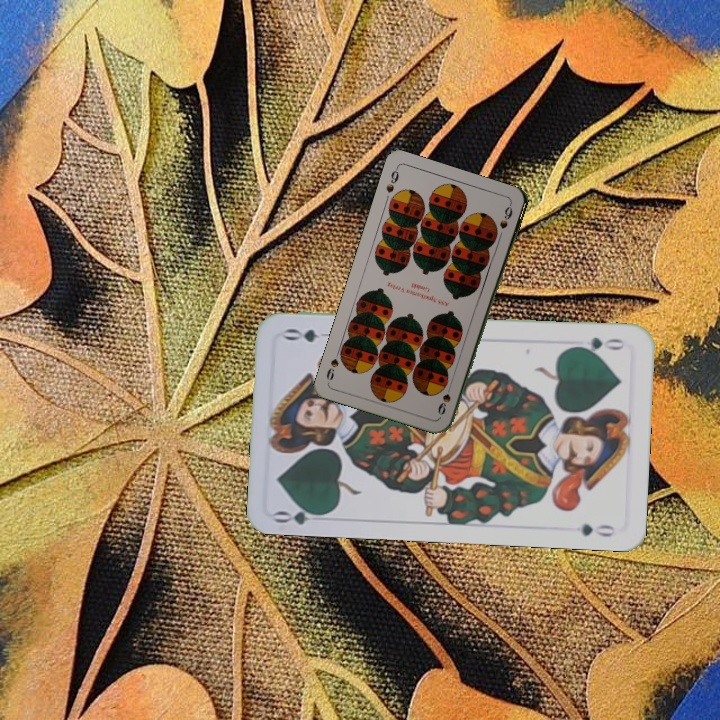GO: (271, 500, 330, 527), (570, 332, 628, 356)
S9: (434, 379, 455, 417), (382, 164, 401, 195)
